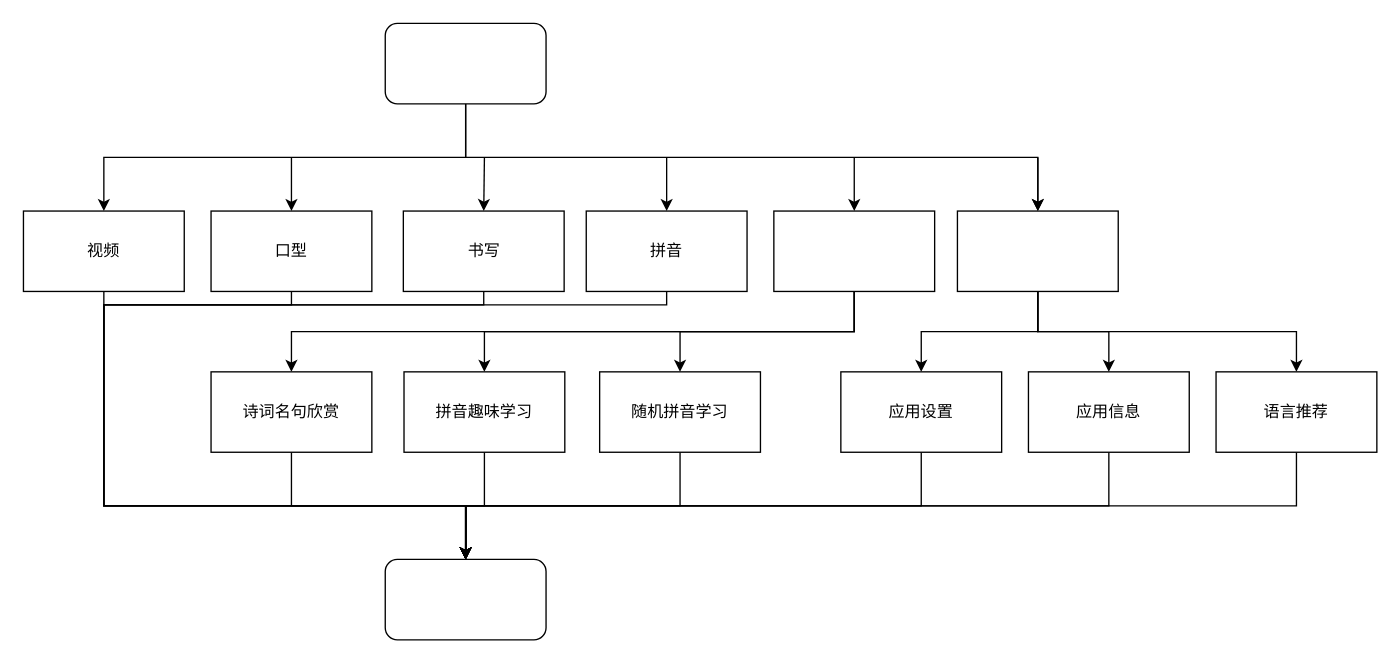
The diagram is 1400 pixels wide and 663 high, and some of its shapes have lost their labels. Here are the shapes that lost their labels. From the top down, the box of each, then its label:
(384, 22, 546, 104): 开始
(773, 210, 935, 291): 学习
(956, 210, 1118, 291): 关于
(384, 558, 546, 640): 结束
